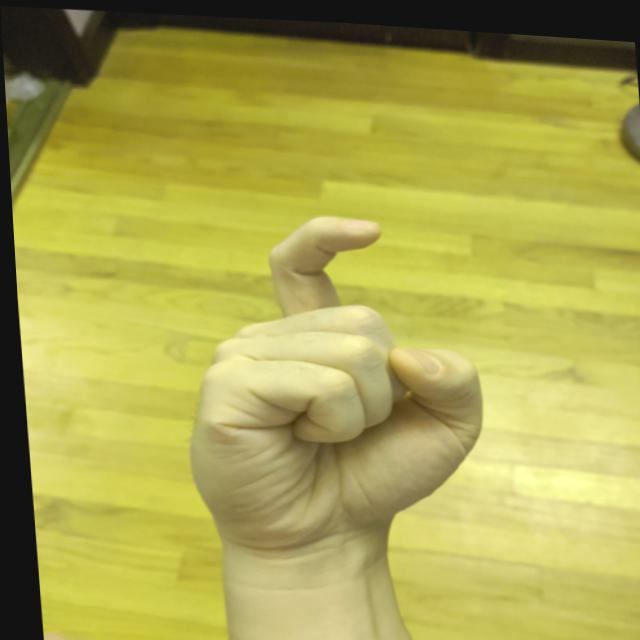X: (155, 193, 496, 566)
